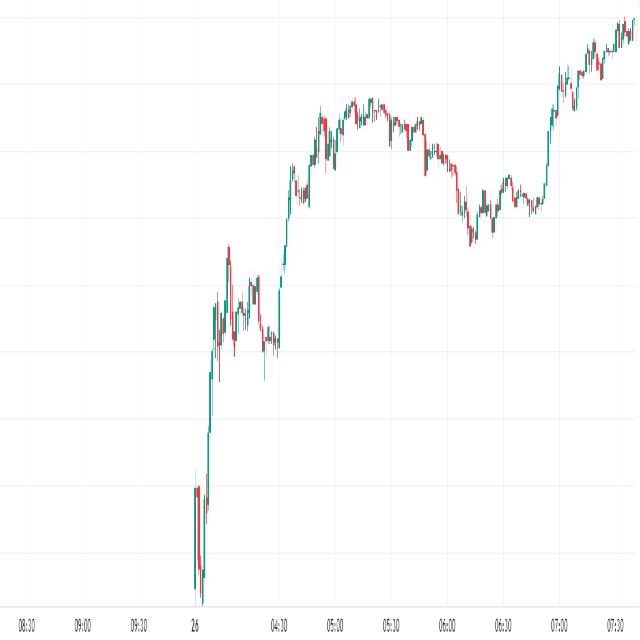Rounding-Top: (279, 78, 475, 240)
